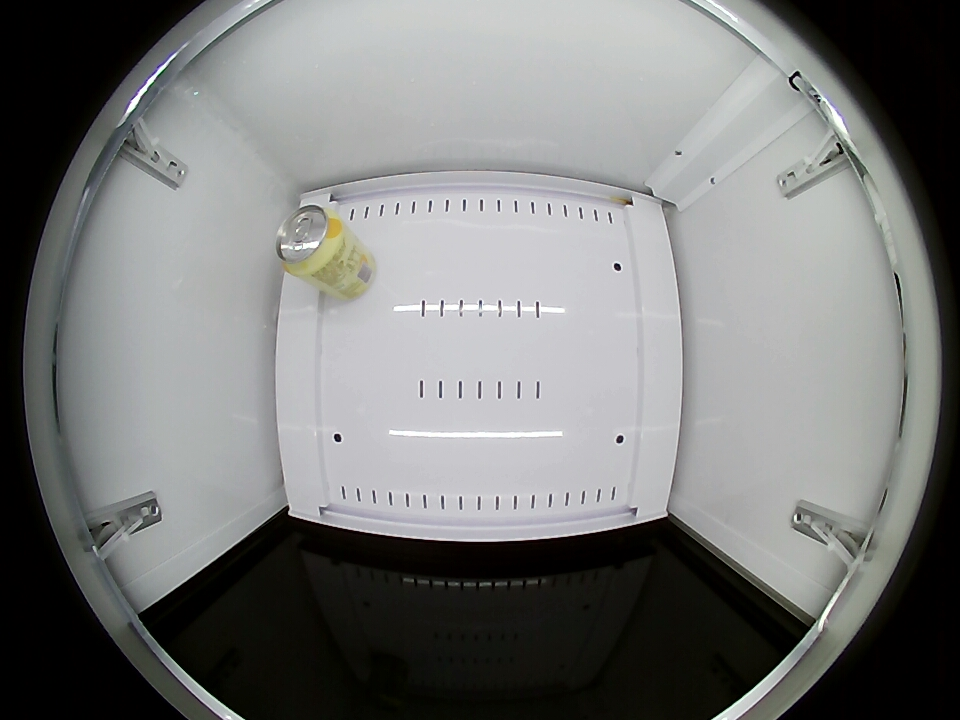mangguoxiaolao: (274, 201, 344, 277)
